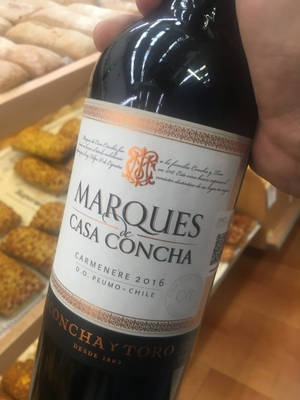marques de casa concha carmenere: (43, 29, 255, 400)
